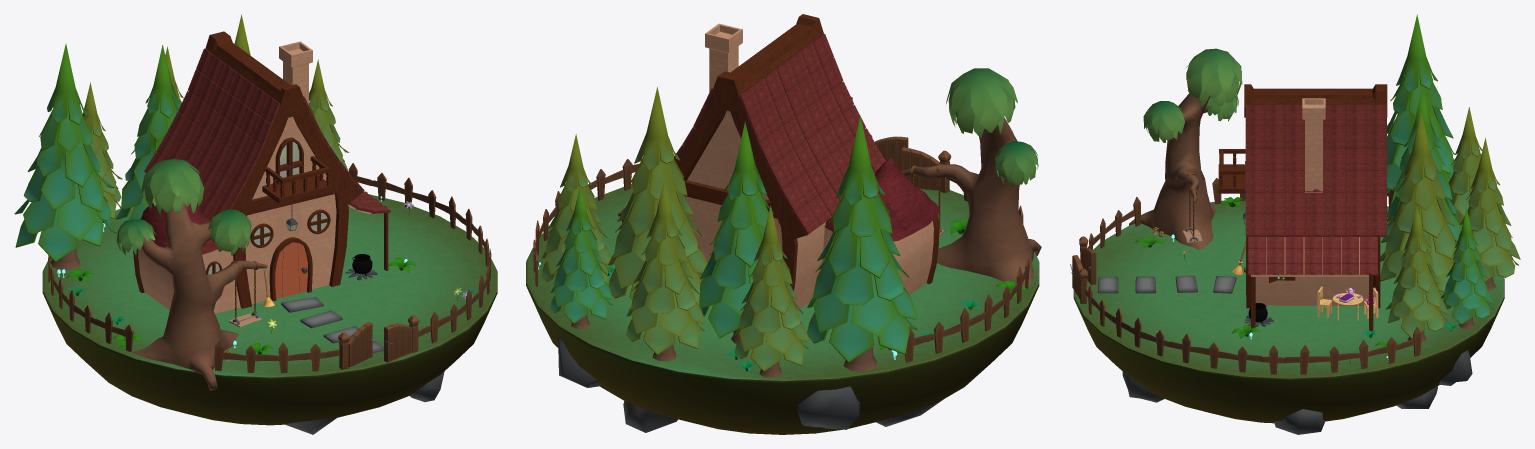
3 renders of one model, left to right at view 1: azimuth 30°, elevation 25°; view 2: azimuth 150°, elevation 25°; view 3: azimuth 270°, elevation 25°, orthographic. The views are drawn at different scales.
Parts seen in each view (by area): view 1: Ground, House_progress:pCube121, House_progress:pCube1, Swing_Tree, House_progress:pCube127, Leaf1 (×4), Leaf5 (×2), Swing_Tree_Leaf (×3), Leaf4 (×2), House_progress:pCube129, Leaf3 (×2), House_progress:pCube123 (+13 smaller); view 2: Ground, House_progress:pCube121, Leaf3 (×7), Leaf4 (×7), Leaf5 (×7), House_progress:pCube1, Swing_Tree, Leaf1 (×7), Leaf2 (×7), Leaf6 (×6), House_progress:pCube127, Swing_Tree_Leaf (×2) (+11 smaller); view 3: Ground, House_progress:pCube121, Leaf1 (×7), Swing_Tree, Leaf3 (×6), House_progress:pCube1, House_progress:polySurface43, Leaf4 (×5), Leaf2 (×5), Leaf5 (×4), House_progress:pCube127, Leaf6 (×4) (+11 smaller).
Boxes of the visible parts, x1,y1,x2,y2 form: Ground: (42, 194, 497, 425); House_progress:pCube121: (144, 48, 364, 220); House_progress:pCube1: (205, 31, 348, 308); Swing_Tree: (132, 202, 267, 390); House_progress:pCube127: (146, 47, 362, 220); Leaf1 (×4): (47, 44, 332, 137); Leaf5 (×2): (14, 176, 153, 240); Swing_Tree_Leaf (×3): (116, 158, 252, 244); Leaf4 (×2): (23, 138, 155, 211); House_progress:pCube129: (133, 248, 240, 313); Leaf3 (×2): (27, 113, 169, 187); House_progress:pCube123: (269, 237, 312, 301); Ground: (526, 184, 1039, 434); House_progress:pCube121: (674, 34, 885, 234); Leaf3 (×7): (548, 164, 900, 314); Leaf4 (×7): (545, 198, 908, 332); Leaf5 (×7): (541, 235, 917, 353); House_progress:pCube1: (684, 14, 825, 311); Swing_Tree: (901, 117, 1041, 286); Leaf1 (×7): (560, 87, 885, 266); Leaf2 (×7): (555, 146, 892, 286); Leaf6 (×6): (550, 257, 917, 371); House_progress:pCube127: (675, 30, 877, 241); Swing_Tree_Leaf (×2): (946, 68, 1038, 177); Ground: (1073, 199, 1504, 423); House_progress:pCube121: (1245, 105, 1386, 235); Leaf1 (×7): (1396, 14, 1499, 255); Swing_Tree: (1129, 93, 1216, 249); Leaf3 (×6): (1387, 88, 1511, 292); House_progress:pCube1: (1244, 84, 1387, 308); House_progress:polySurface43: (1248, 236, 1377, 276); Leaf4 (×5): (1384, 115, 1512, 310); Leaf2 (×5): (1390, 63, 1503, 273); Leaf5 (×4): (1380, 230, 1520, 320); House_progress:pCube127: (1246, 99, 1386, 236); Leaf6 (×4): (1380, 249, 1518, 338).
Size of the model in its own units: 82.45 by 65.03 by 85.73.
Materials: 37 (25 with a texture image).
